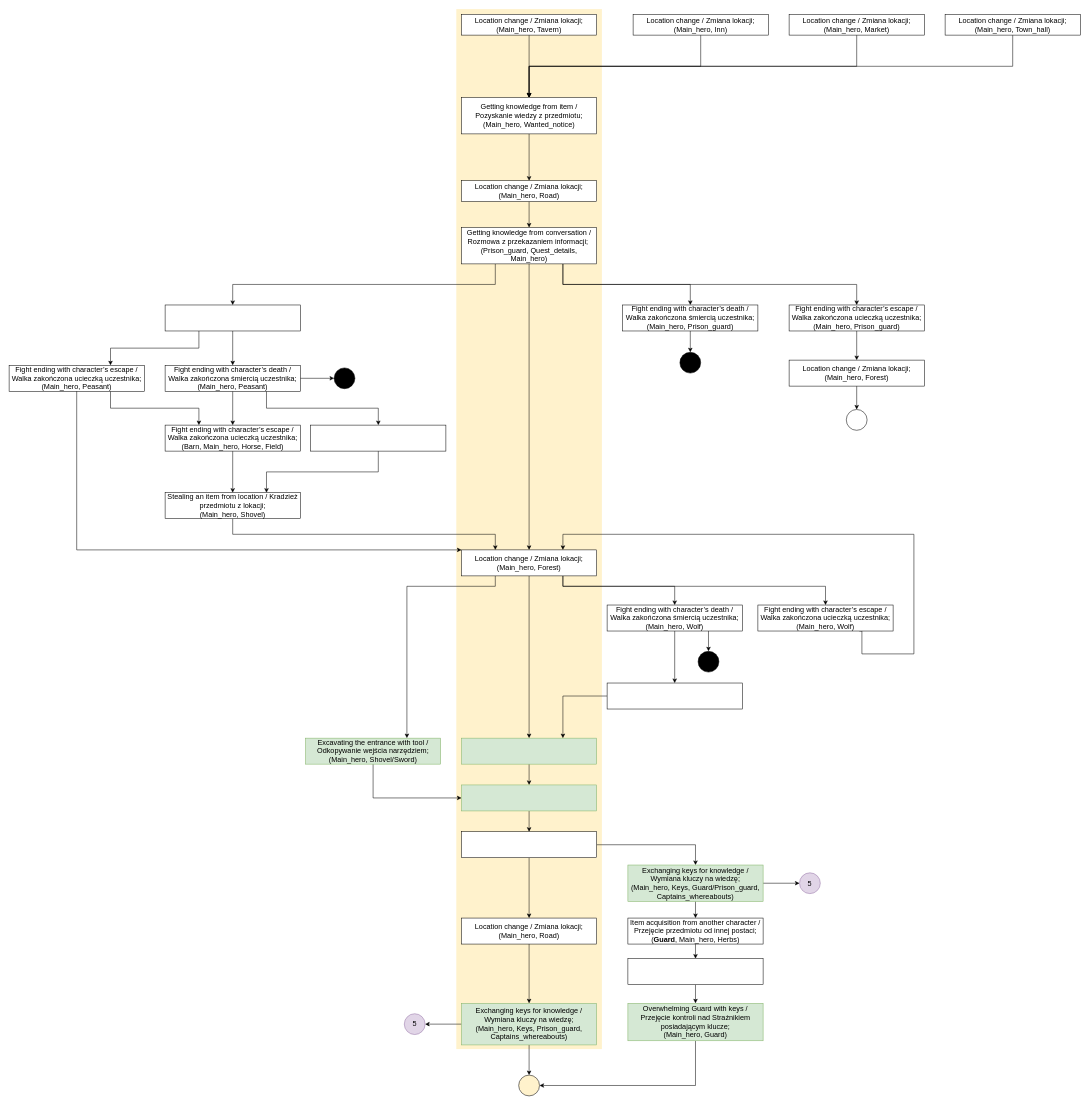
This 1089x1105 diagram has some shape labels left out. The shapes that lost their labels are listed below. From the top down, each one's centre as x and y in pixels, then its label:
At (232,317): "Location change / Zmiana lokacji; (Main_hero, Barn)".
At (378,438): "Location change / Zmiana lokacji; (Horse, Field)".
At (674,695): "Picking item up / Podniesienie przedmiotu; (Herbs, Wolf_pelt)".
At (529,751): "Excavating the entrance / Odkopywanie wejścia".
At (529,797): "Entering cave / Wejście do jaskini".
At (529,844): "Picking item up / Podniesienie przedmiotu; (Main_hero, Keys)".
At (695,971): "Nutrition / Odżywianie; (Guard, Herbs)".
